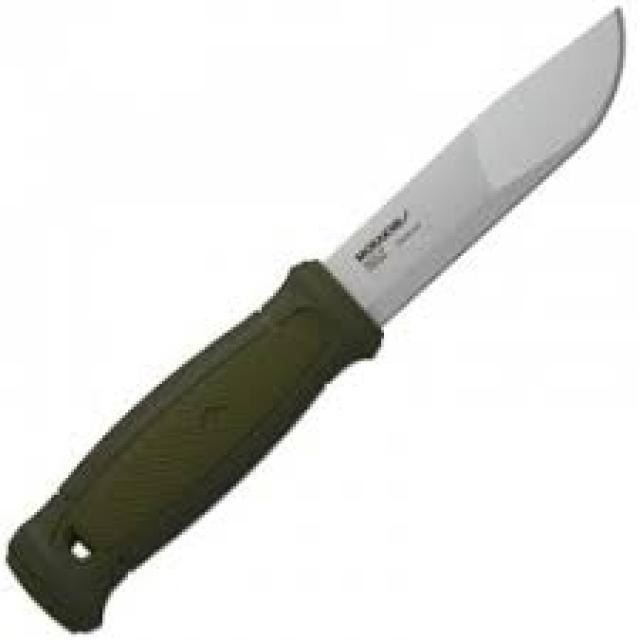knife: (3, 2, 635, 636)
